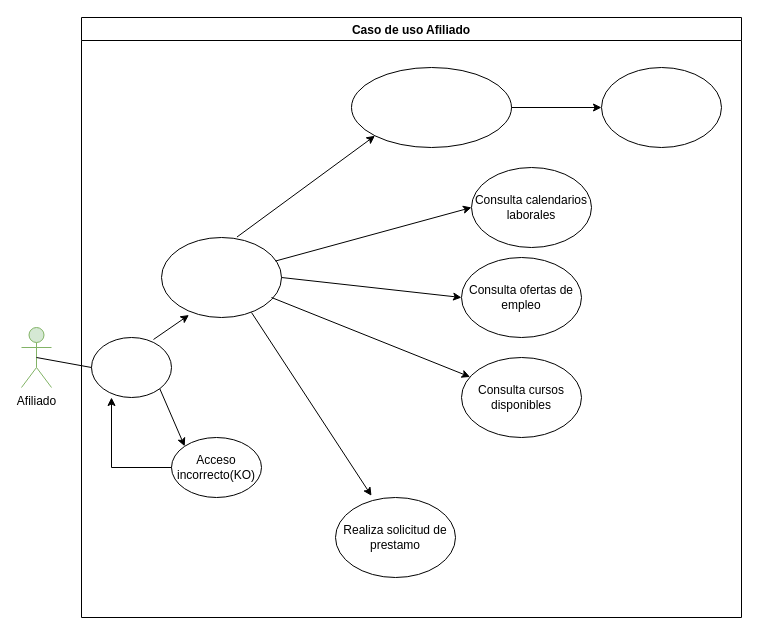
This 759x635 diagram has some shape labels left out. The shapes that lost their labels are listed below. From the top down, each one's centre as x and y in pixels, then its label:
(x=431, y=107): Comprueba su información por pantalla
(x=661, y=107): Introduce datos nuevos
(x=221, y=277): Acceso correcto (OK)
(x=131, y=367): Autenticar
